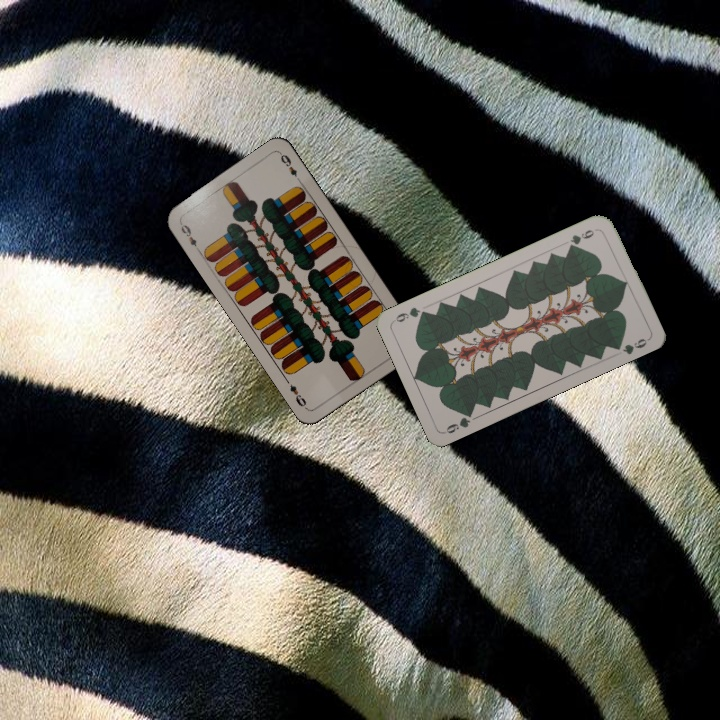E9: (176, 218, 202, 254)
G9: (441, 407, 476, 436), (564, 225, 600, 251)
